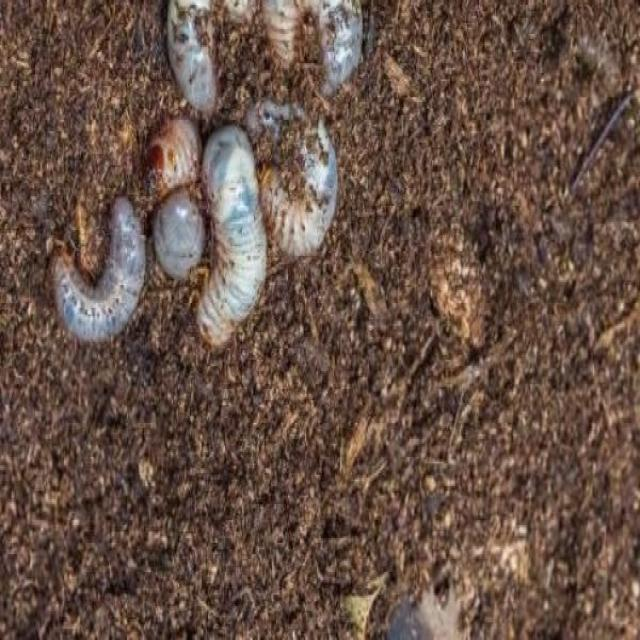grub: (46, 190, 150, 357), (195, 125, 268, 347), (246, 109, 347, 263), (261, 6, 377, 96), (159, 1, 244, 116), (146, 187, 214, 286)
